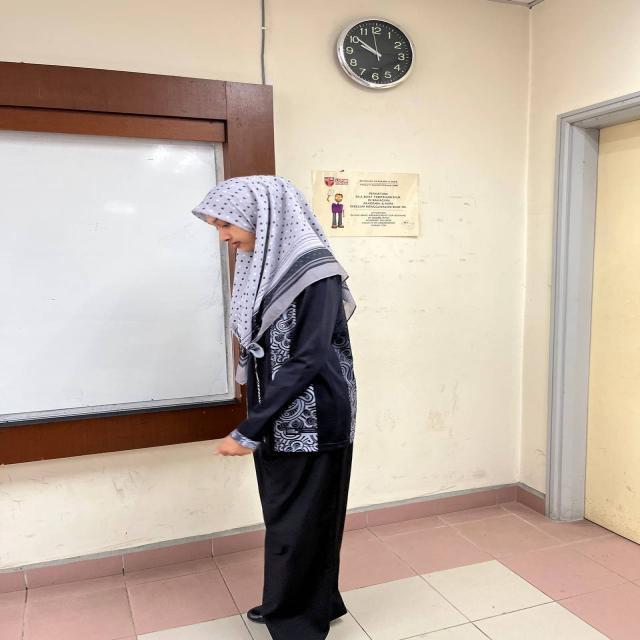person_without_labcoat: (193, 176, 356, 640)
